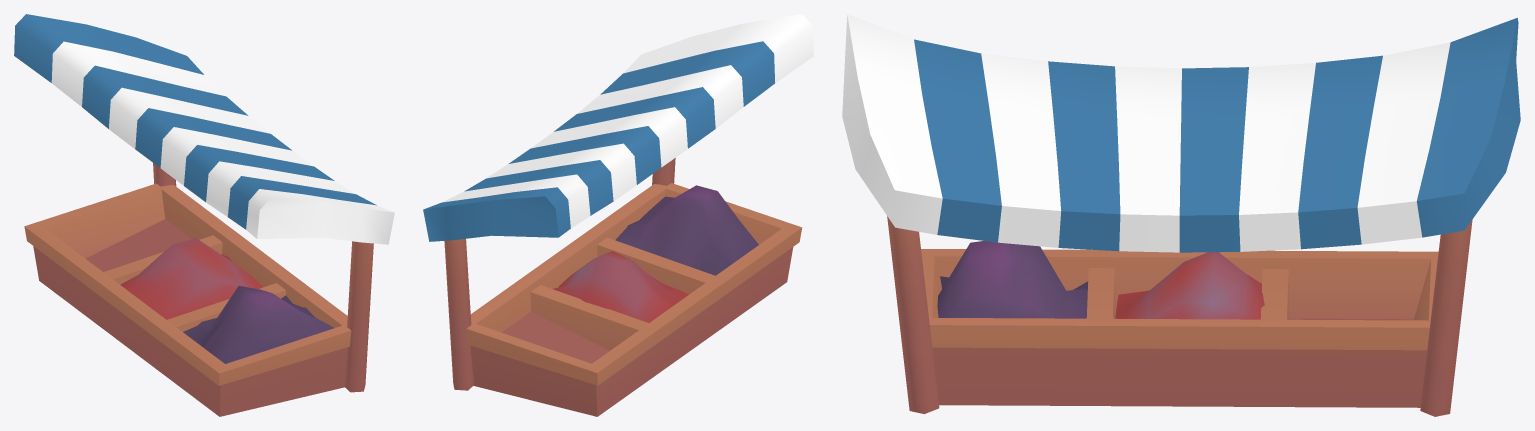
The model's file is market_stall_blue.glb.
The picture shows the model from 3 angles, left to right: view 1: azimuth 30°, elevation 25°; view 2: azimuth 150°, elevation 25°; view 3: azimuth 270°, elevation 25°; orthographic projection. The views are drawn at different scales.
Parts seen in each view (by area): view 1: Market Stall Blue.001_Material.005_0; view 2: Market Stall Blue.001_Material.005_0; view 3: Market Stall Blue.001_Material.005_0.
Part boxes in pixels (box(x1,y1,x2,y2)): Market Stall Blue.001_Material.005_0: box(14, 14, 394, 416); Market Stall Blue.001_Material.005_0: box(423, 14, 813, 416); Market Stall Blue.001_Material.005_0: box(842, 14, 1520, 416).
Size of the model in its own units: 1.56 by 2.07 by 3.97.
Materials: 1 (1 with a texture image).
